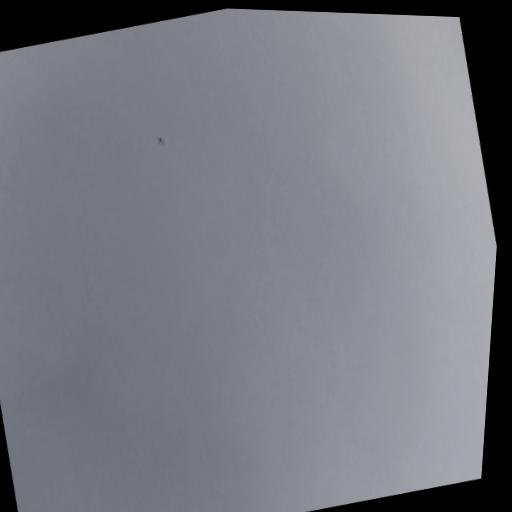drones: (155, 133, 168, 148)
